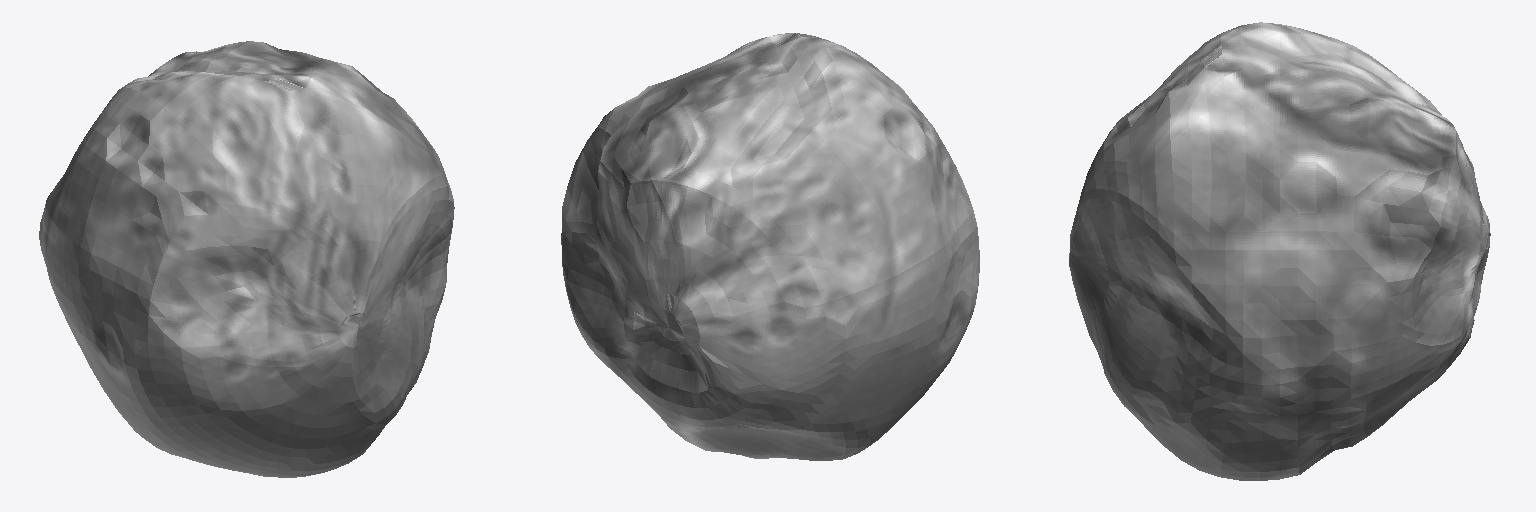
3 renders of one model, left to right at view 1: azimuth 30°, elevation 25°; view 2: azimuth 150°, elevation 25°; view 3: azimuth 270°, elevation 25°, orthographic.
Size of the model in its own units: 398 by 437 by 411.
Materials: 1 (1 with a texture image).